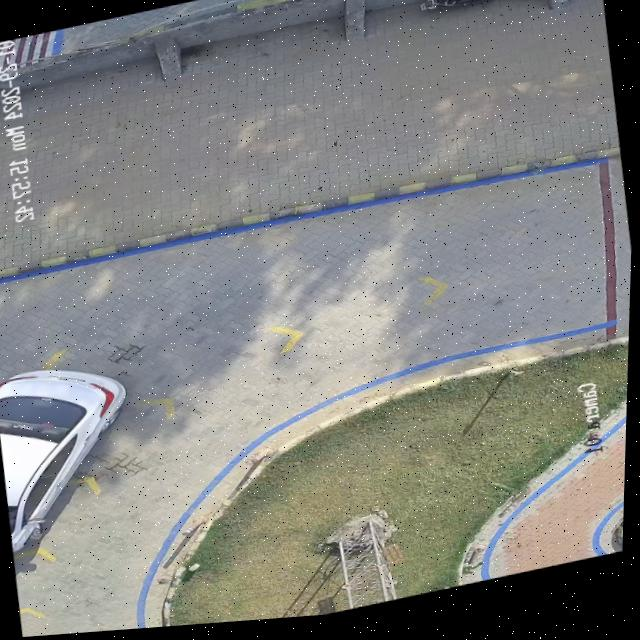car: (0, 370, 128, 551)
